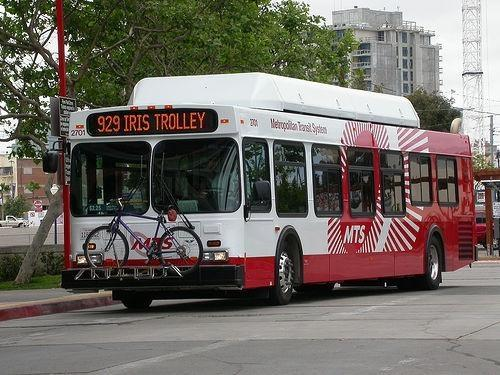bicycle: (83, 197, 204, 277)
bus: (37, 71, 479, 309)
car: (475, 210, 495, 249)
truck: (0, 216, 24, 228)
